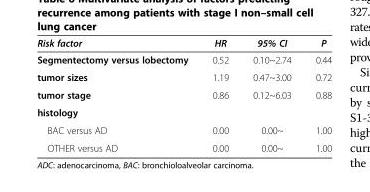table: (36, 37, 331, 153)
table column: (36, 37, 199, 153), (240, 37, 302, 153), (199, 37, 240, 153), (302, 37, 331, 153)
table column header: (36, 37, 331, 50)
table projected row header: (36, 103, 331, 121)
table row: (36, 50, 331, 68), (36, 85, 331, 103), (36, 103, 331, 121), (36, 68, 331, 85), (36, 121, 331, 138), (36, 138, 331, 153), (36, 37, 331, 50)
